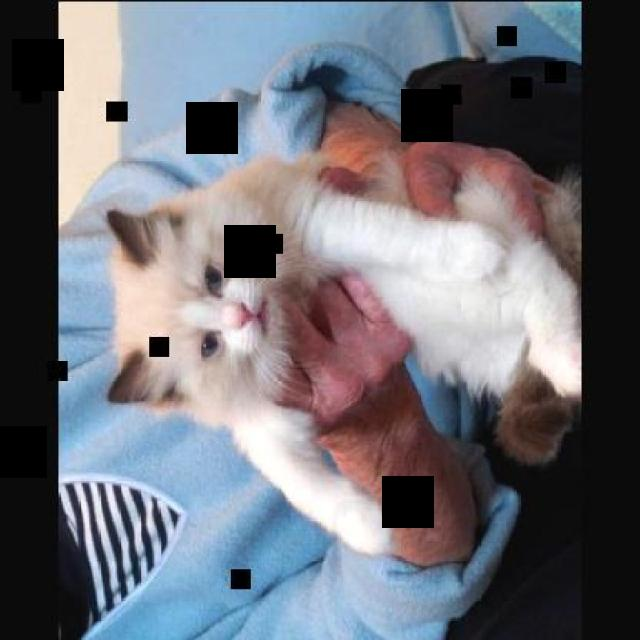unauthorized: (103, 100, 582, 565)
